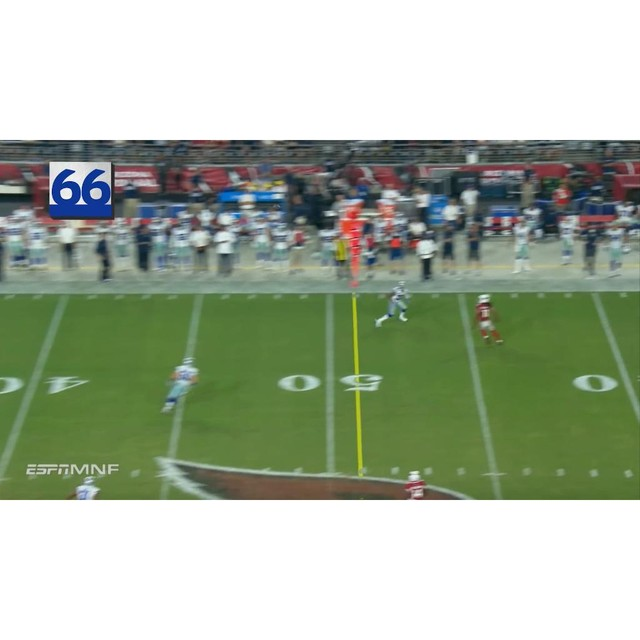american-football-player: (160, 356, 201, 414), (374, 281, 411, 328), (473, 294, 505, 346), (65, 477, 103, 499), (404, 470, 428, 500)
